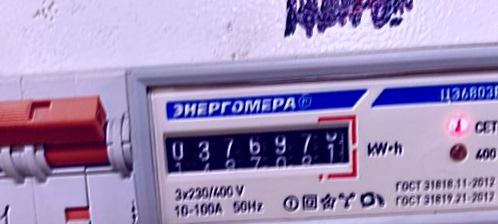0: (168, 140, 185, 162)
1: (325, 143, 337, 165)
3: (195, 140, 211, 164)
6: (247, 135, 261, 156)
7: (221, 135, 235, 160), (298, 132, 312, 156)
9: (272, 134, 286, 157)
screen: (155, 114, 362, 196)
